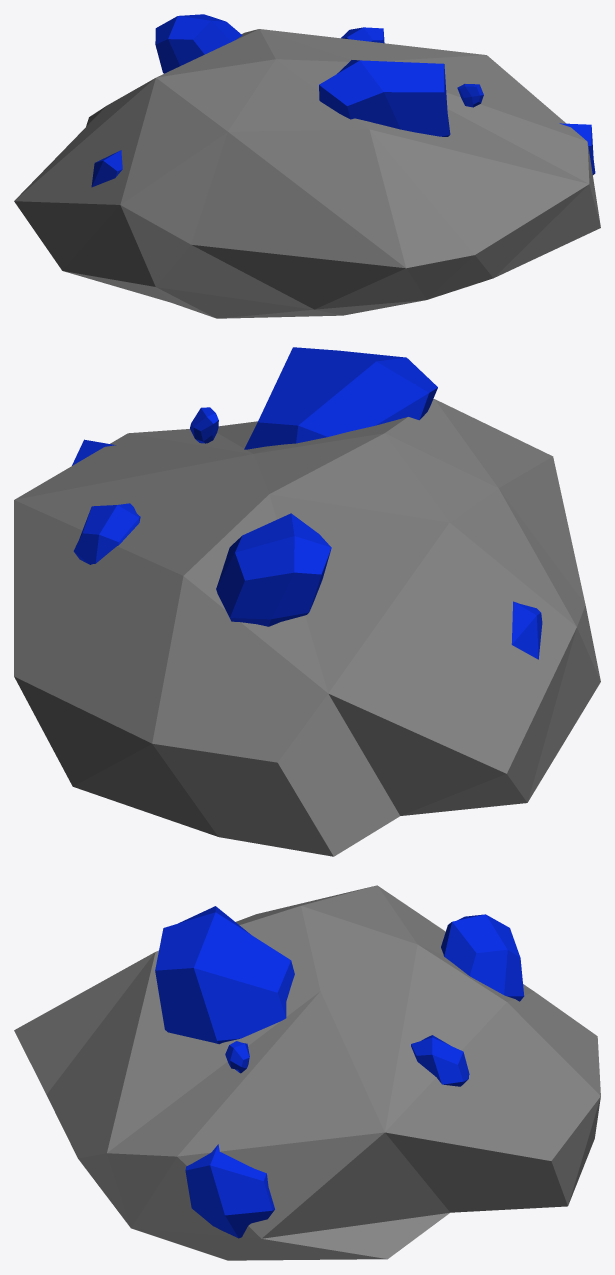
File: minerai saphire.fbx
3 views of the same model, one above another, from view 1: azimuth 30°, elevation 25°; view 2: azimuth 150°, elevation 25°; view 3: azimuth 270°, elevation 25° (orthographic). The views are drawn at different scales.
Parts seen in each view (by area): view 1: Icosphere, Cube.001, Cube, Cube.003, Cube.004, Cube.005, Cube.002; view 2: Icosphere, Cube.001, Cube, Cube.004, Cube.003, Cube.005; view 3: Icosphere, Cube.001, Cube.002, Cube, Cube.004, Cube.005.
Boxes of the visible parts, x1=… form: Icosphere: x1=14, y1=29, x2=600, y2=318; Cube.001: x1=319, y1=60, x2=450, y2=136; Cube: x1=155, y1=14, x2=242, y2=73; Cube.003: x1=91, y1=150, x2=122, y2=187; Cube.004: x1=341, y1=27, x2=384, y2=43; Cube.005: x1=457, y1=84, x2=483, y2=107; Cube.002: x1=559, y1=123, x2=595, y2=174; Icosphere: x1=14, y1=399, x2=600, y2=856; Cube.001: x1=244, y1=347, x2=437, y2=449; Cube: x1=216, y1=513, x2=331, y2=626; Cube.004: x1=73, y1=503, x2=140, y2=564; Cube.003: x1=511, y1=601, x2=542, y2=659; Cube.005: x1=190, y1=407, x2=218, y2=443; Icosphere: x1=14, y1=885, x2=600, y2=1260; Cube.001: x1=155, y1=906, x2=294, y2=1044; Cube.002: x1=185, y1=1144, x2=274, y2=1238; Cube: x1=441, y1=914, x2=524, y2=1001; Cube.004: x1=411, y1=1035, x2=469, y2=1086; Cube.005: x1=225, y1=1041, x2=249, y2=1073.
Bounding box in the file's own units: 61.77 × 32.3 × 61.88.
